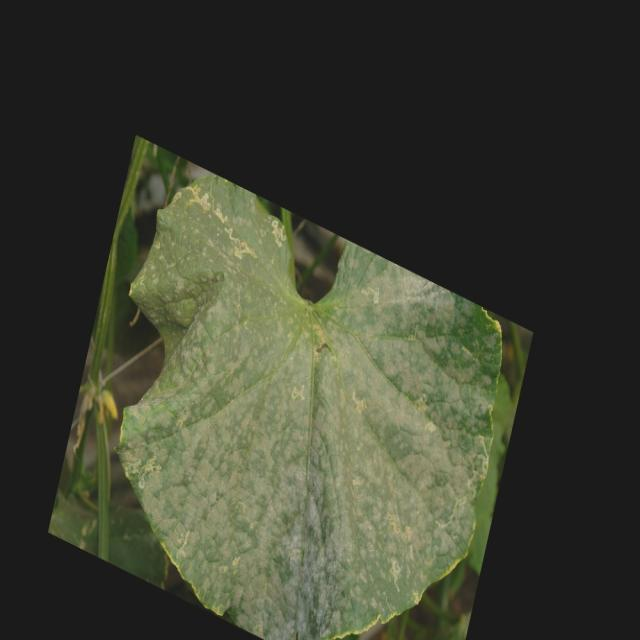Powdery_mildew_on_lettuce: (93, 400, 477, 640), (293, 240, 509, 640), (100, 227, 326, 544), (122, 190, 300, 418)
